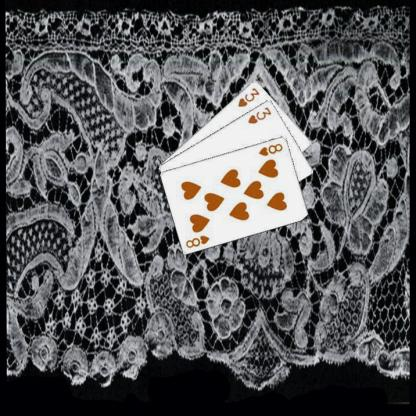3H: (235, 85, 261, 108), (245, 104, 273, 125)
8H: (256, 140, 284, 157), (183, 232, 211, 249)
